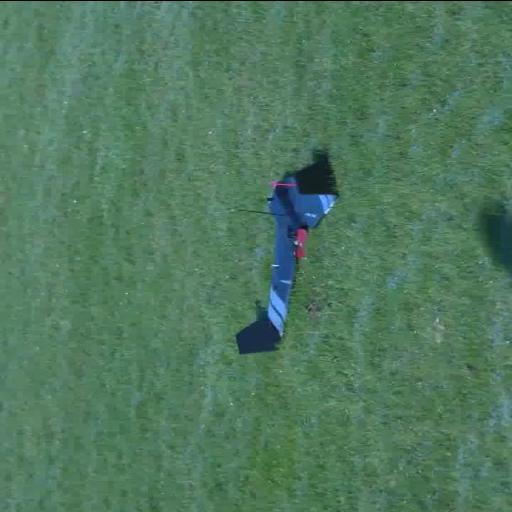uav: (225, 150, 349, 360)
